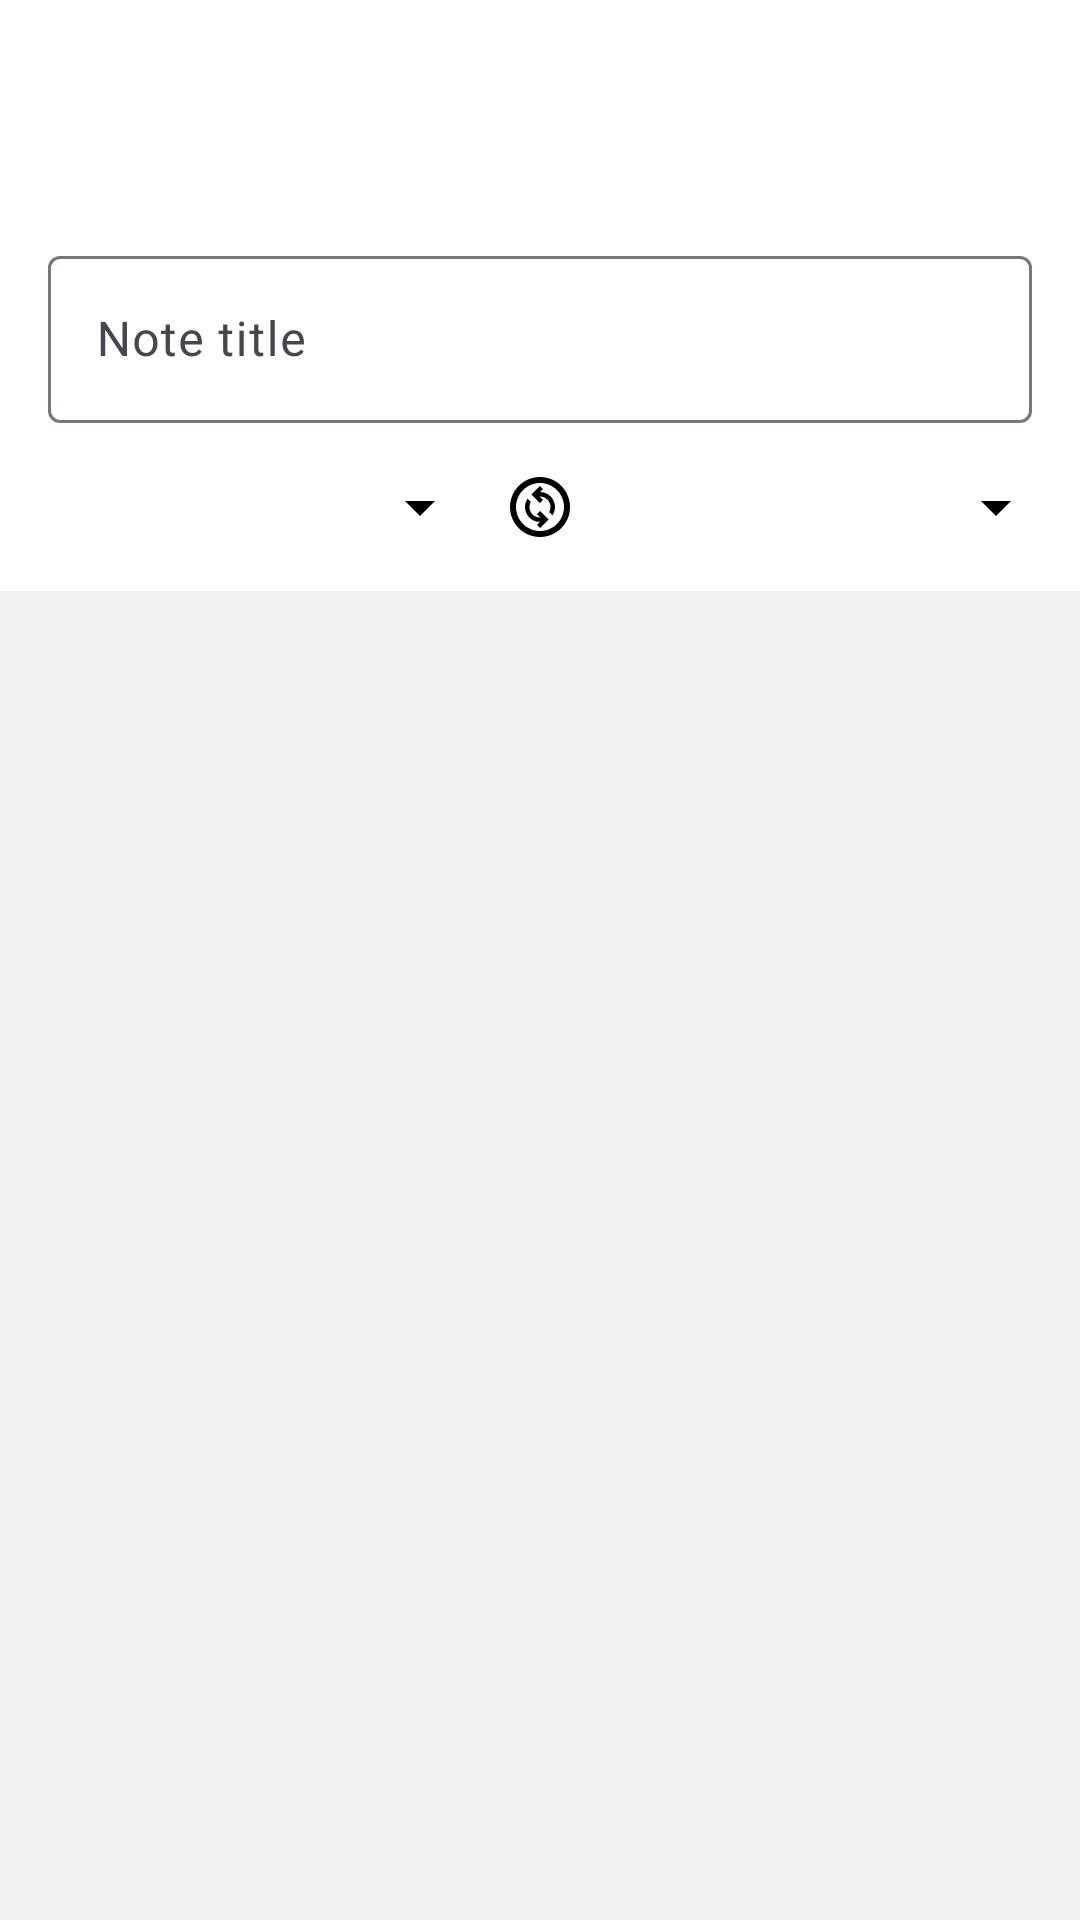

Named icons in this screenshot (1080px x 1920px) and their bounding boxes, (x1, y1, x2, y2):
change circle: (510, 477, 570, 537)
